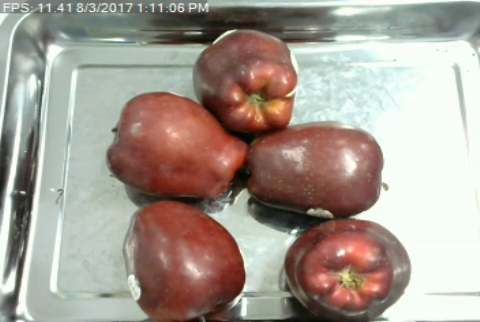Apple: (105, 88, 249, 206), (118, 198, 246, 322), (241, 119, 391, 221), (280, 215, 417, 321), (186, 23, 303, 139)
